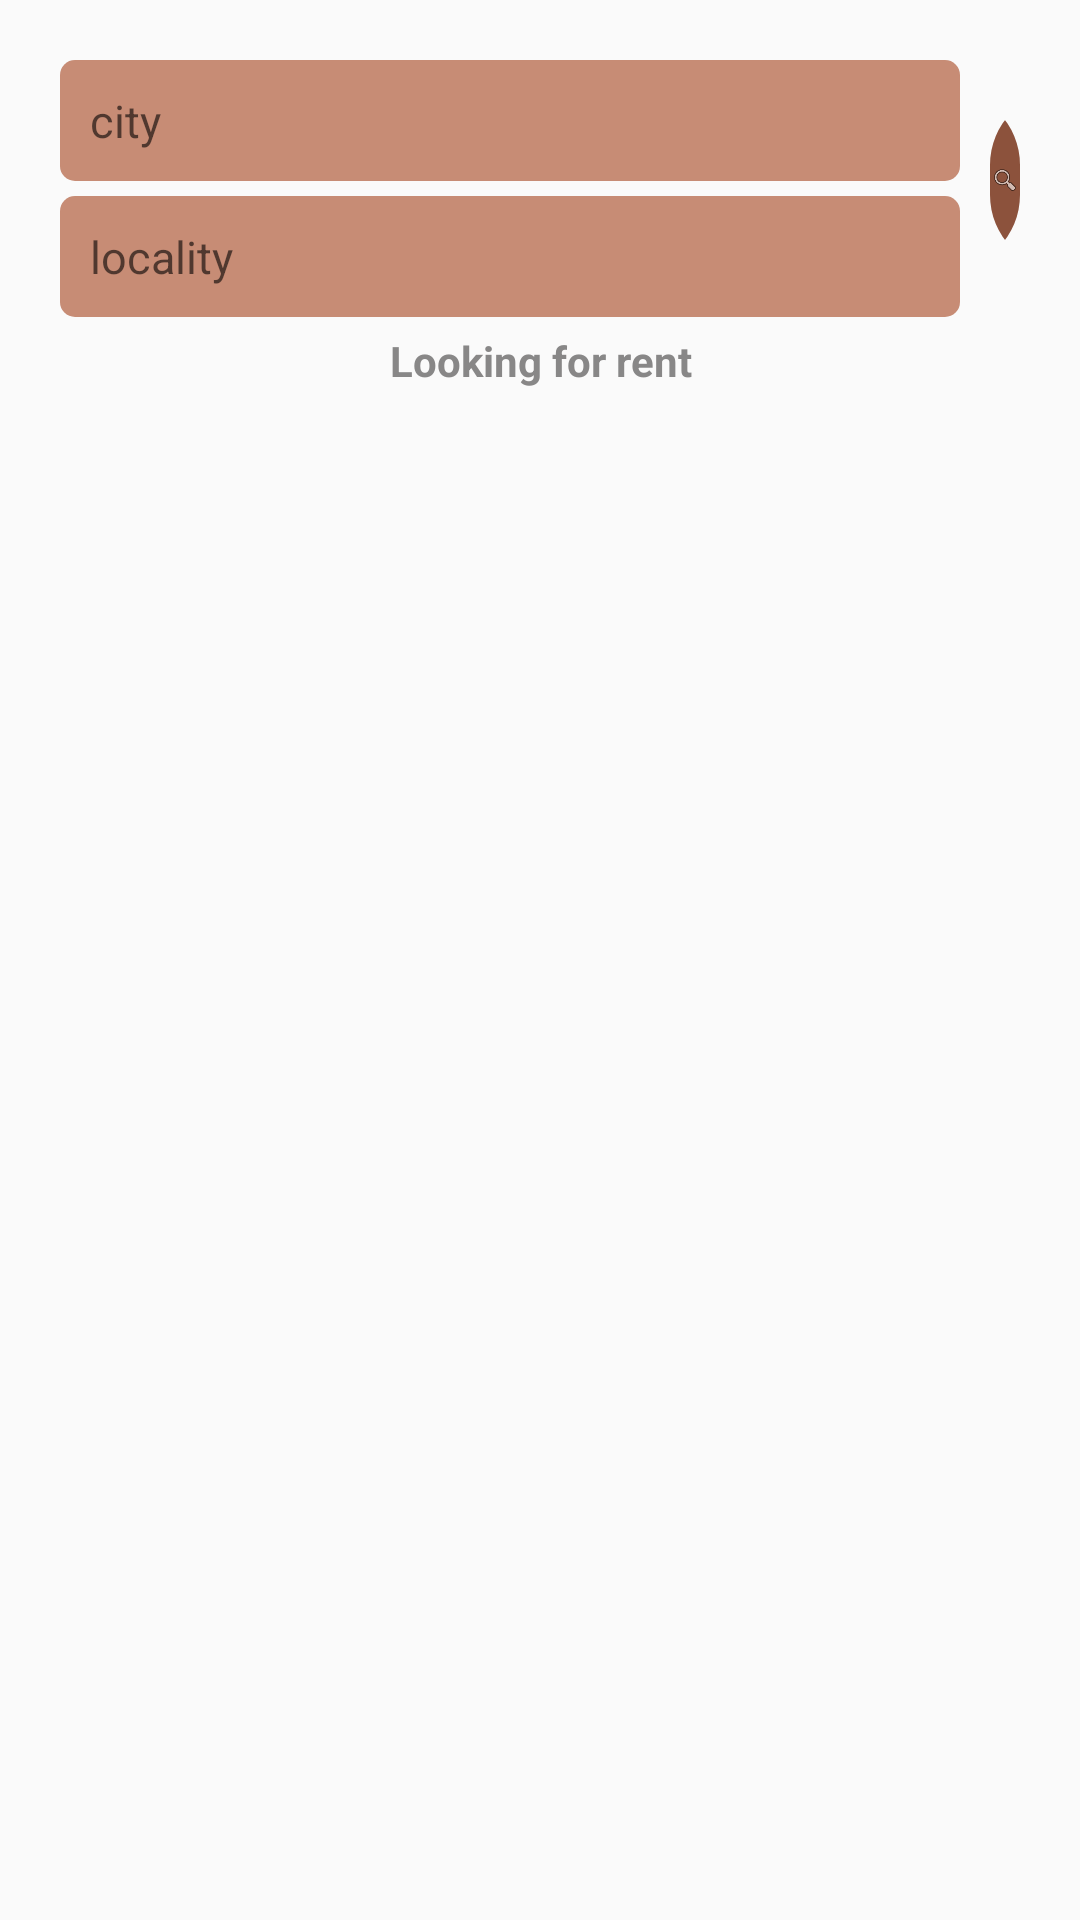

Screen size 1080x1920. Icon name, then its box in pixels as bbox=(x1, y1, x2, y2):
search: bbox=(990, 120, 1020, 240)
